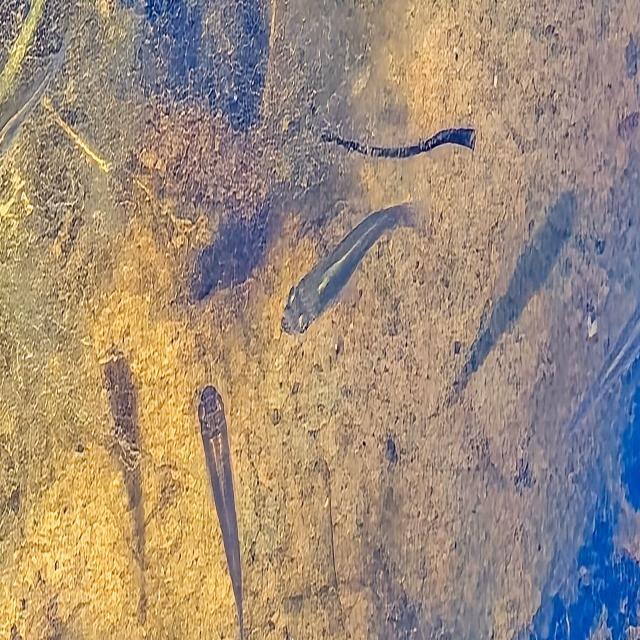Sivrisinek Baligi: (279, 198, 419, 340), (193, 377, 261, 640)
